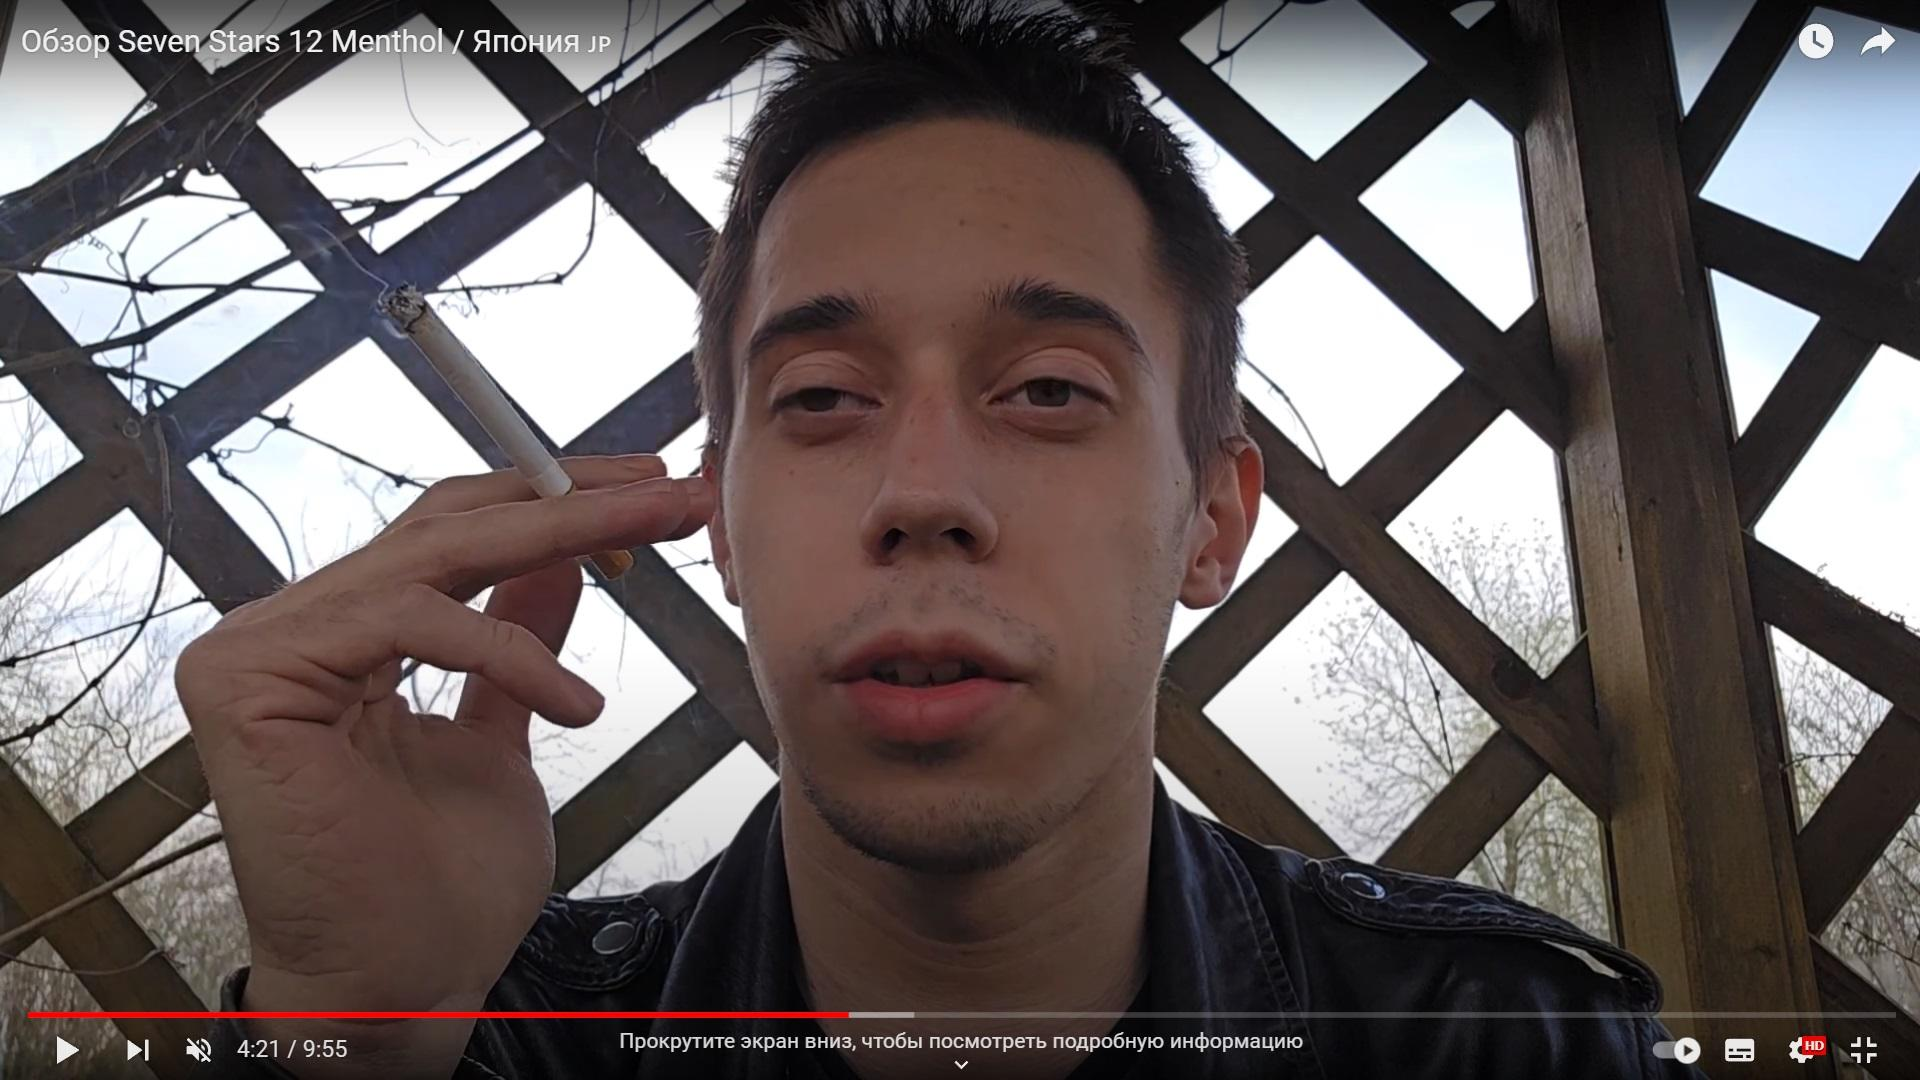cigarette: (380, 280, 636, 579)
